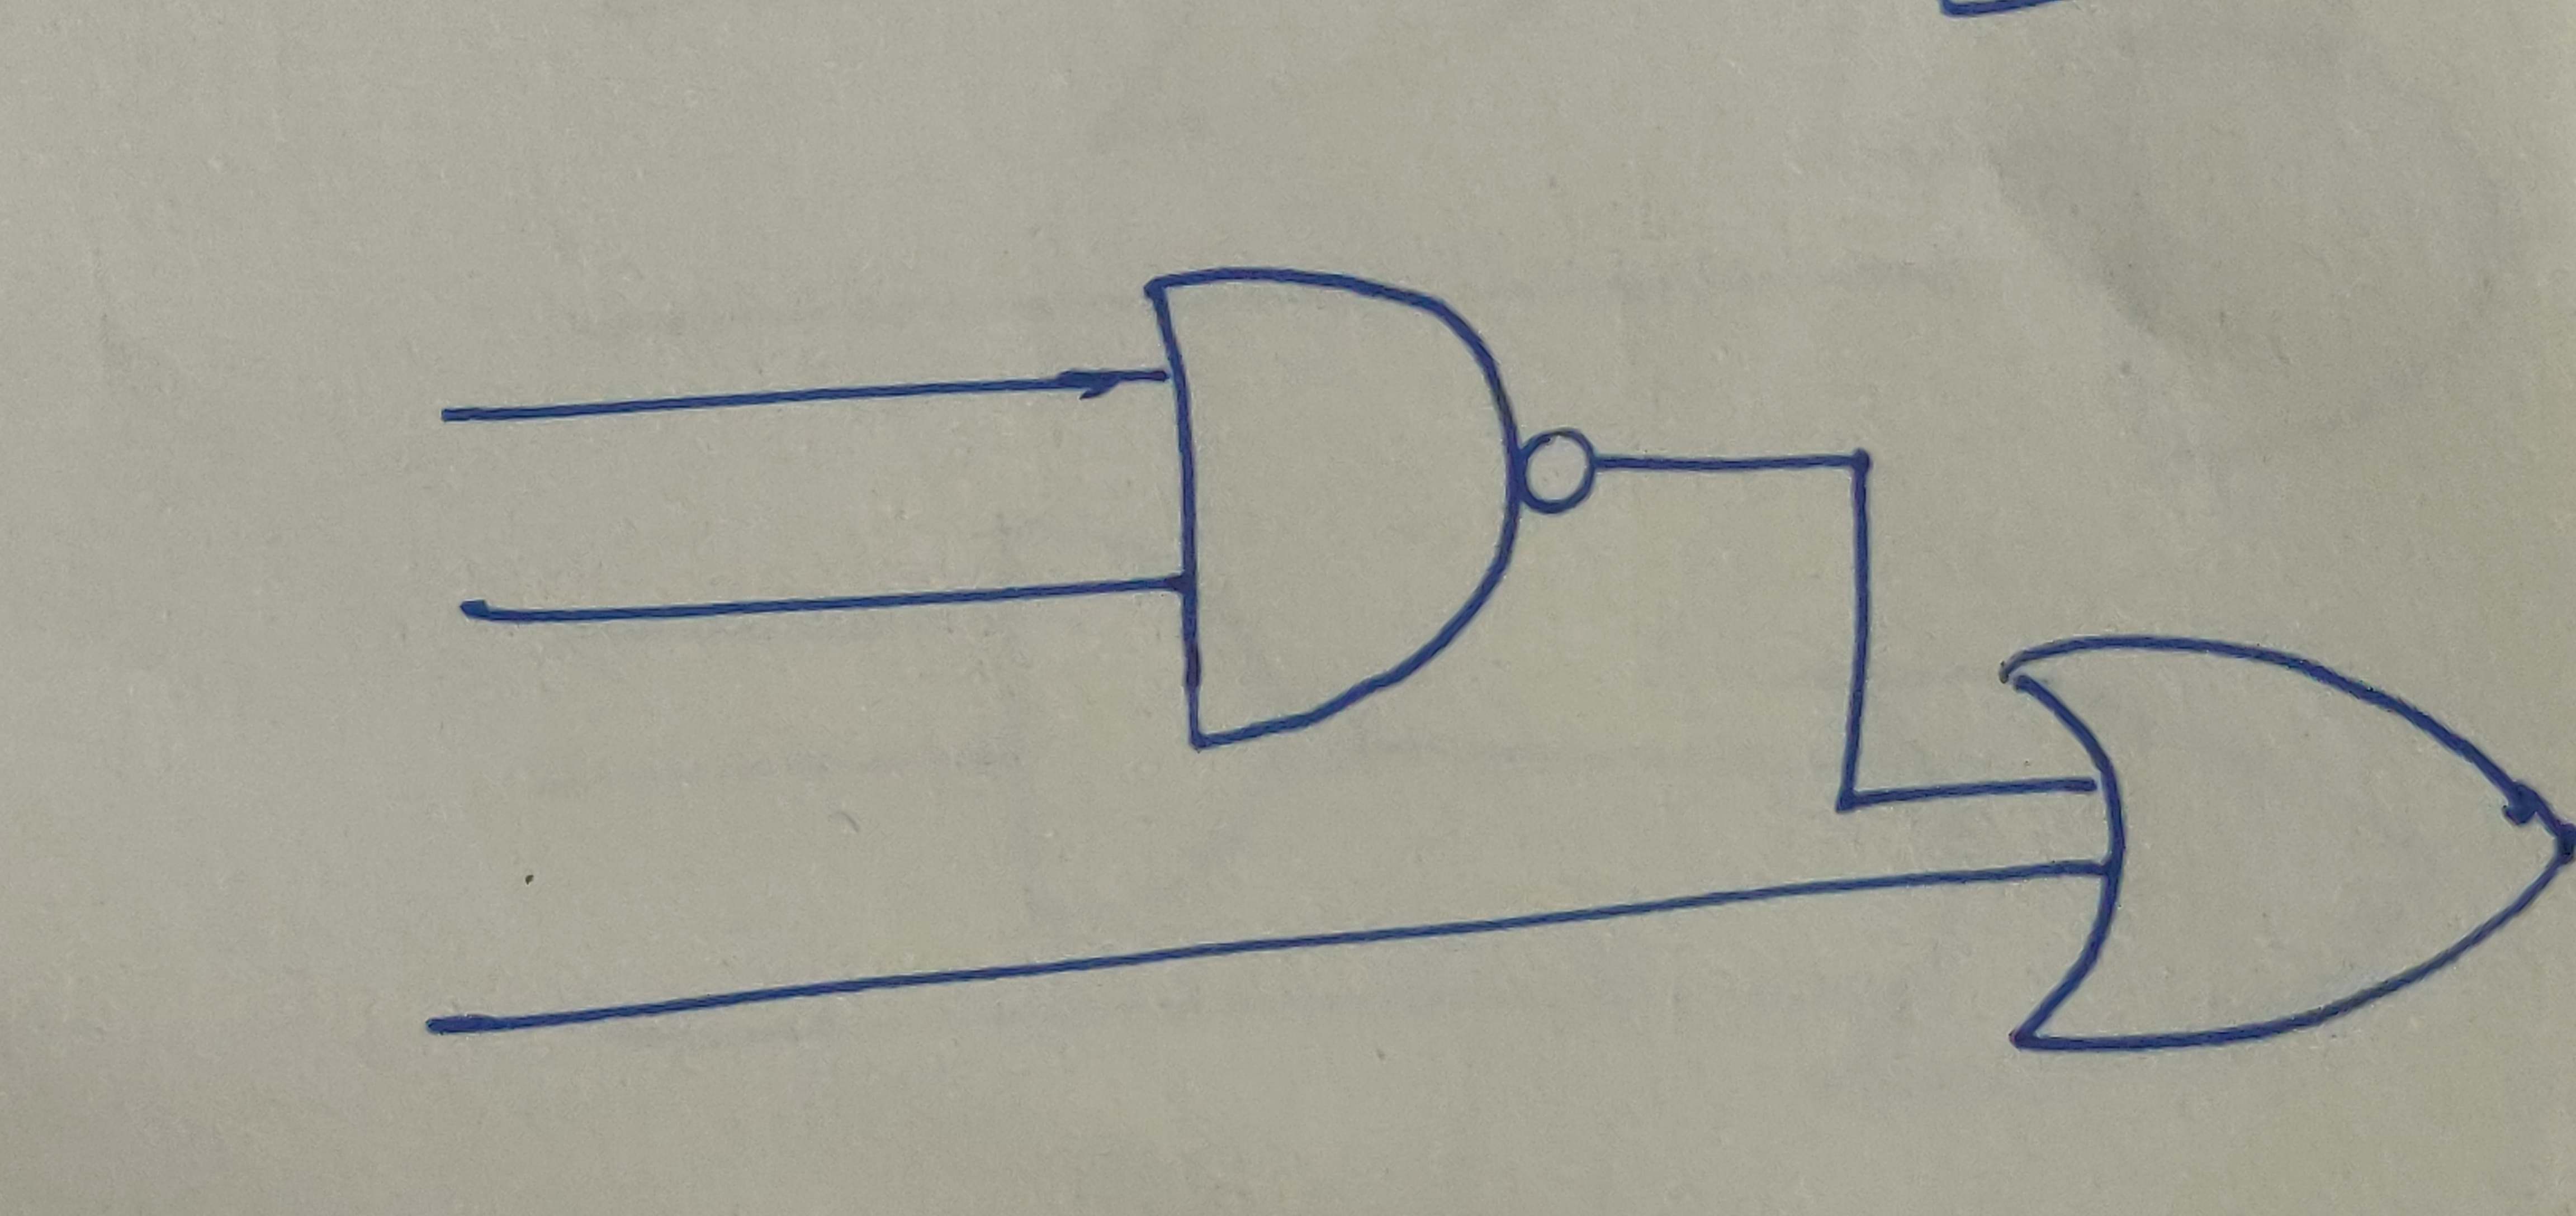and: (1140, 263, 1528, 759)
not: (1518, 427, 1600, 526)
or: (1991, 628, 2568, 1068)
